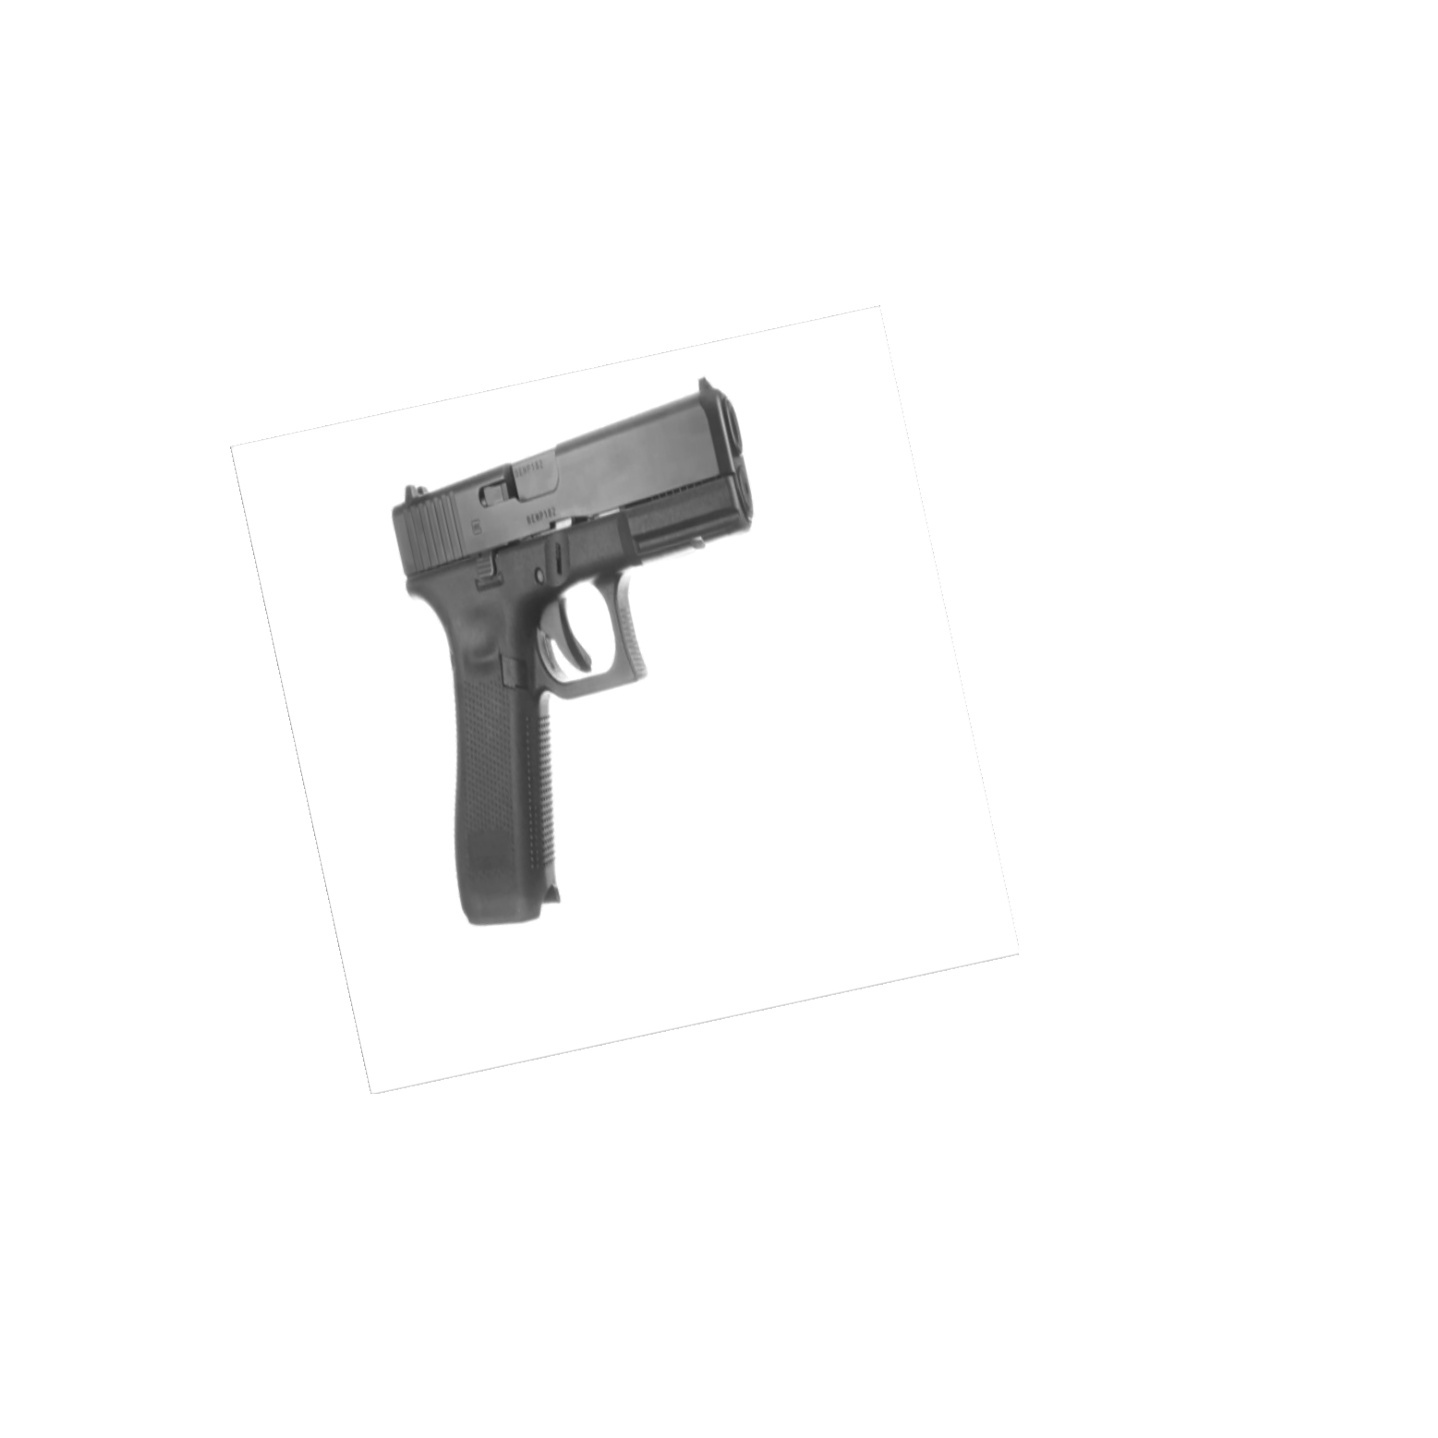gun: (388, 377, 756, 928)
